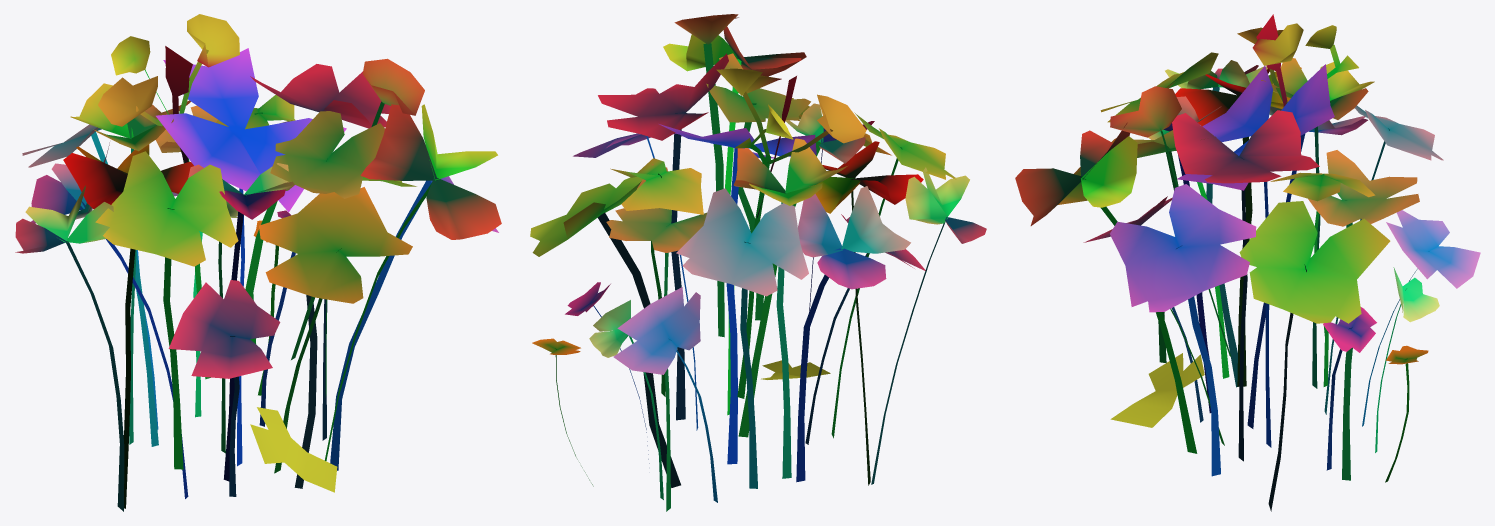
Rendered from Purple_Shamrock_rjrrH_Mid_rjrrH_VarA_LOD0.fbx.
3 views of the same model, side by side, from view 1: azimuth 30°, elevation 25°; view 2: azimuth 150°, elevation 25°; view 3: azimuth 270°, elevation 25° (orthographic). The views are drawn at different scales.
Parts seen in each view (by area): view 1: _8f44_VarA_LOD1; view 2: _8f44_VarA_LOD1; view 3: _8f44_VarA_LOD1.
Boxes of the visible parts, x1,y1,x2,y2 form: _8f44_VarA_LOD1: (15,14,501,511); _8f44_VarA_LOD1: (530,14,986,511); _8f44_VarA_LOD1: (1015,14,1480,511).
Bounding box in the file's own units: 41.15 × 42.77 × 40.68.
